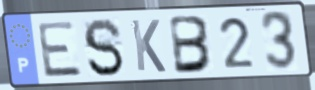2: (218, 16, 257, 71)
3: (261, 9, 297, 74)
B: (168, 14, 215, 76)
E: (35, 19, 85, 80)
K: (128, 18, 168, 75)
S: (81, 17, 127, 79)
